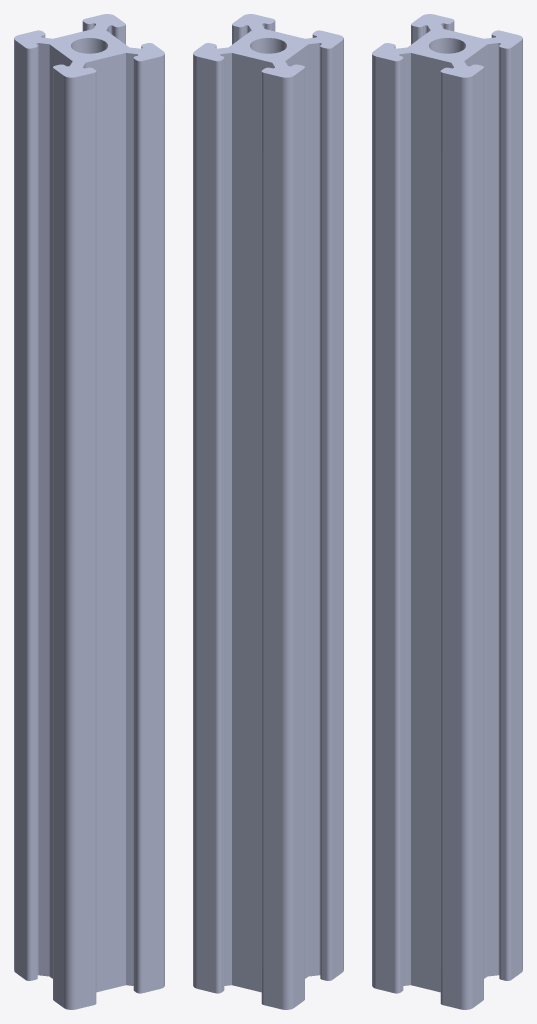
3 views of the same model, side by side, from view 1: azimuth 30°, elevation 25°; view 2: azimuth 150°, elevation 25°; view 3: azimuth 330°, elevation 25° (orthographic).
Parts seen in each view (by area): view 1: stitch_result_stitch all; view 2: stitch_result_stitch all; view 3: stitch_result_stitch all.
Part boxes in pixels (x1=…): stitch_result_stitch all: x1=14, y1=14, x2=164, y2=1009; stitch_result_stitch all: x1=193, y1=14, x2=343, y2=1009; stitch_result_stitch all: x1=372, y1=14, x2=522, y2=1009.
Size of the model in its own units: 0.507 by 4.53 by 0.507.
